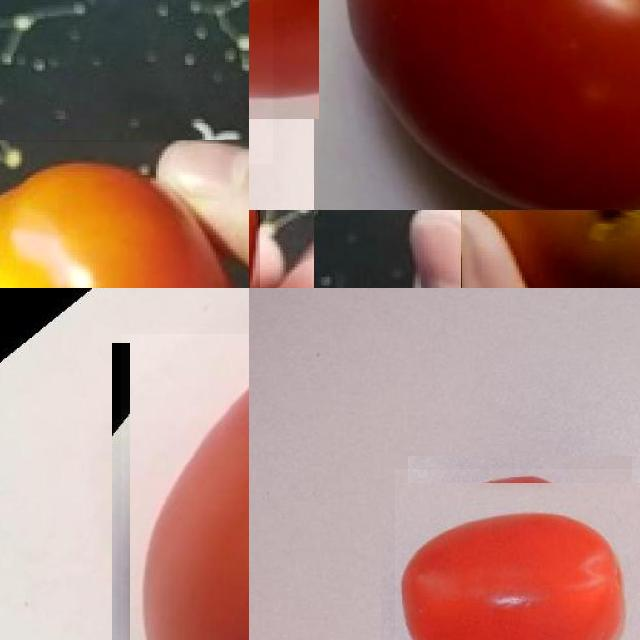0: (0, 142, 249, 288)
Fresh Tomato: (314, 0, 640, 210), (394, 469, 640, 640), (121, 334, 249, 640)
Rotten Tomato: (461, 210, 640, 288)
